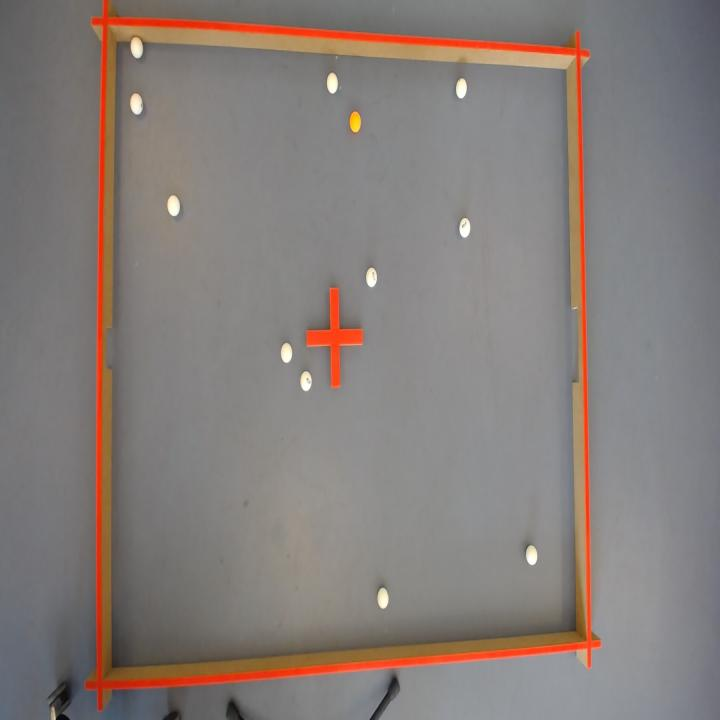orange: (350, 109, 361, 131)
white: (166, 193, 180, 215), (129, 91, 142, 113), (130, 35, 142, 56), (280, 341, 292, 362), (378, 587, 389, 609), (300, 371, 312, 391), (327, 71, 338, 92), (456, 77, 467, 97), (460, 217, 471, 237), (527, 545, 538, 565), (366, 267, 377, 286)
